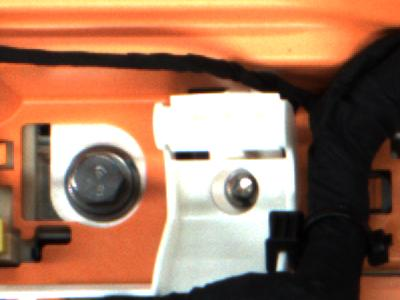nut_b: (64, 142, 146, 224)
